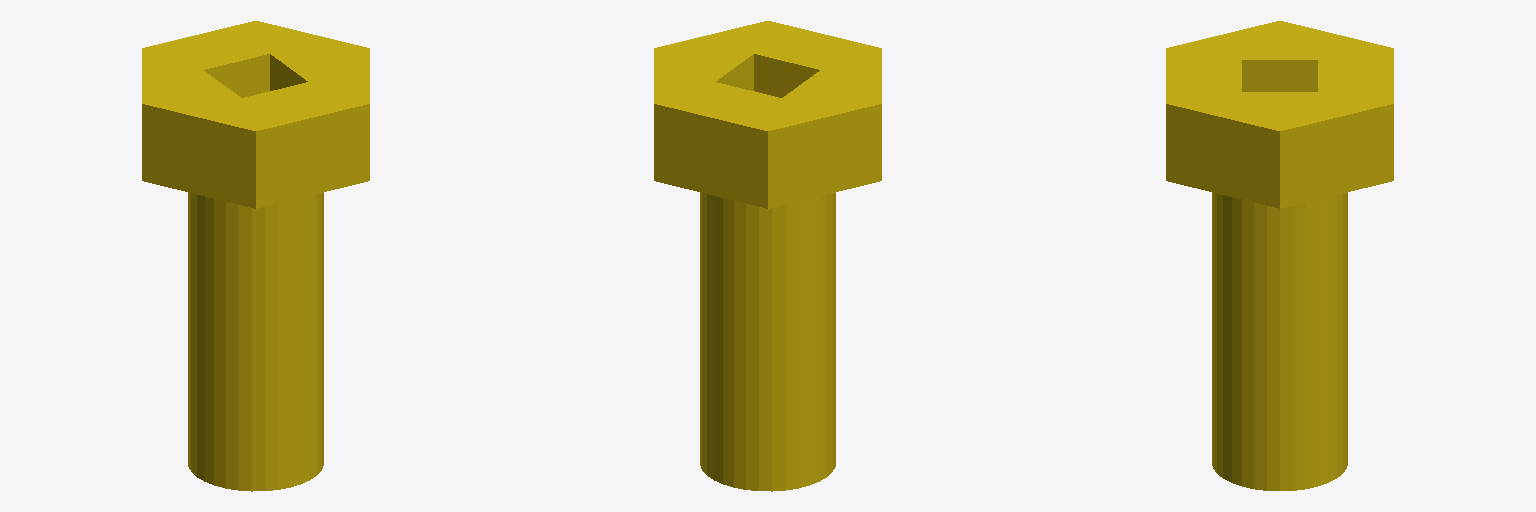
URDF robot description (cb_cb_screw):
<?xml version="1.0"?>
<!-- ContactBench cb_screw. Generated by FoundationTouch tools/contactbench/make_contactbench_assets.py -->
<robot name="cb_cb_screw">
  <material name="c"><color rgba="0.85 0.75 0.10 1.0"/></material>
  <link name="object">
    <visual><origin xyz="0 0 0" rpy="0 0 0"/><geometry><mesh filename="cb_screw.obj" scale="1 1 1"/></geometry><material name="c"/></visual>
    <collision><origin xyz="0 0 0" rpy="0 0 0"/><geometry><mesh filename="coll_00.obj" scale="1 1 1"/></geometry></collision>
    <collision><origin xyz="0 0 0" rpy="0 0 0"/><geometry><mesh filename="coll_01.obj" scale="1 1 1"/></geometry></collision>
    <collision><origin xyz="0 0 0" rpy="0 0 0"/><geometry><mesh filename="coll_02.obj" scale="1 1 1"/></geometry></collision>
    <collision><origin xyz="0 0 0" rpy="0 0 0"/><geometry><mesh filename="coll_03.obj" scale="1 1 1"/></geometry></collision>
    <collision><origin xyz="0 0 0" rpy="0 0 0"/><geometry><mesh filename="coll_04.obj" scale="1 1 1"/></geometry></collision>
    <collision><origin xyz="0 0 0" rpy="0 0 0"/><geometry><mesh filename="coll_05.obj" scale="1 1 1"/></geometry></collision>
    <inertial><mass value="0.002372"/><origin xyz="0 0 0" rpy="0 0 0"/><inertia ixx="2.242838e-07" ixy="-1.216173e-24" ixz="-1.251550e-39" iyy="2.242838e-07" iyz="1.042434e-24" izz="5.362410e-08"/></inertial>
  </link>
</robot>

--- Render facts (derived) ---
The picture shows the robot from 3 angles, left to right: view 1: azimuth 30°, elevation 25°; view 2: azimuth 150°, elevation 25°; view 3: azimuth 270°, elevation 25°; orthographic projection.
Model cb_cb_screw with 1 links and 0 joints (none), rooted at object, posed all joints at 0.
Links seen in each view (by area): view 1: object; view 2: object; view 3: object.
Boxes of the visible links, left/top/right/bottom form: object: left=142, top=21, right=369, bottom=491; object: left=654, top=21, right=881, bottom=491; object: left=1166, top=21, right=1393, bottom=490.
Size in the robot's own frame: 0.0185 by 0.016 by 0.03 metres.
1 mesh visuals loaded from 1 distinct referenced files (1 OBJ).
